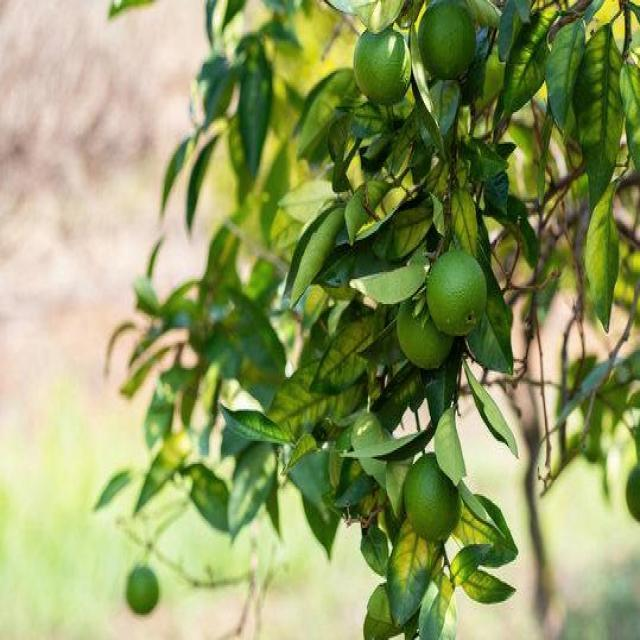Jeruk Belum Matang: (428, 254, 490, 336), (404, 455, 462, 542), (416, 3, 476, 84), (354, 31, 414, 108), (395, 302, 455, 370)
